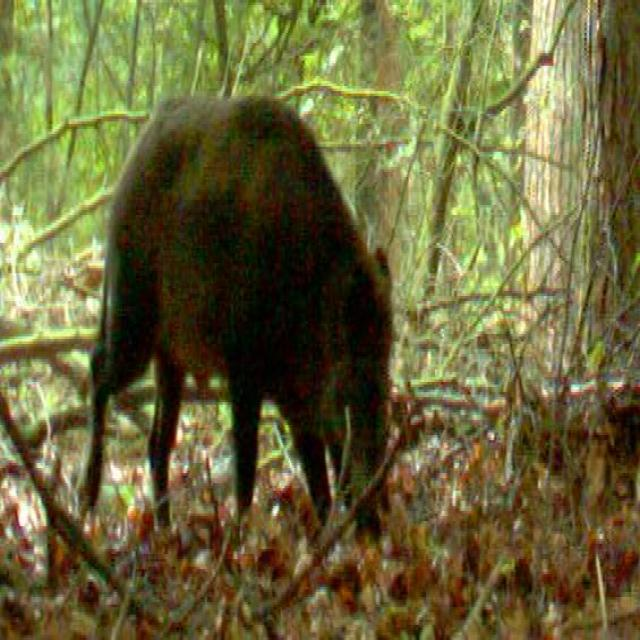pig: (62, 92, 398, 546)
